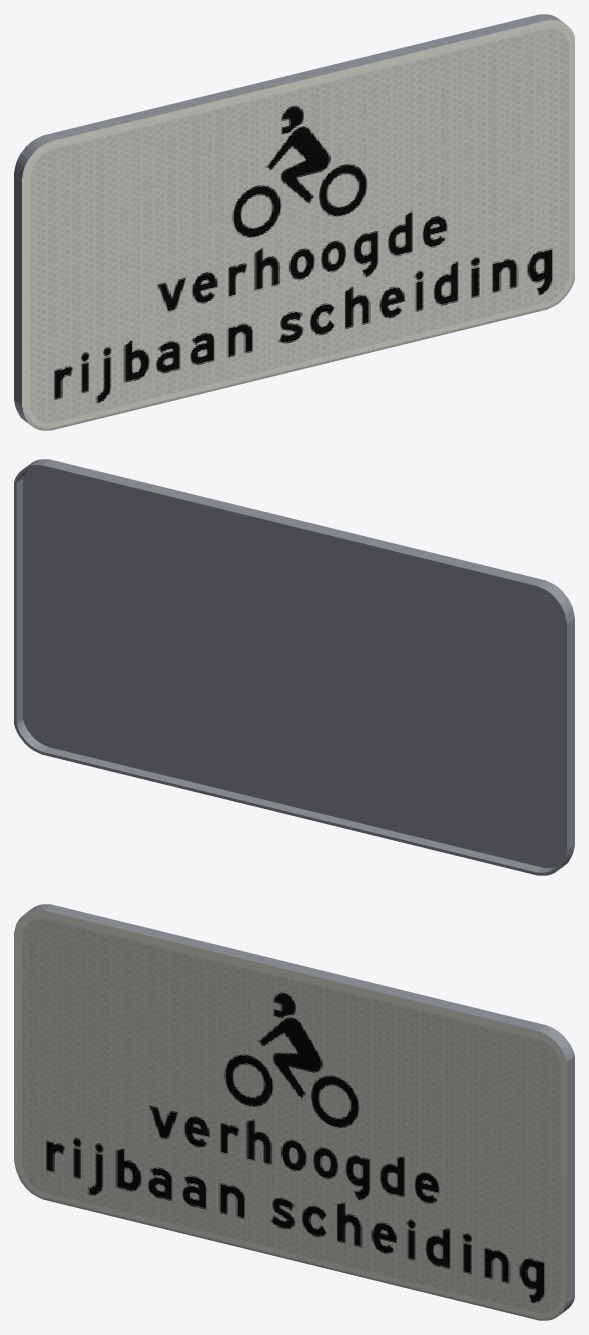
3 renders of one model, top to bottom at view 1: azimuth 30°, elevation 25°; view 2: azimuth 150°, elevation 25°; view 3: azimuth 330°, elevation 25°, orthographic.
Parts seen in each view (by area): view 1: cat_44e162589621736f; view 2: cat_44e162589621736f; view 3: cat_44e162589621736f.
Part boxes in pixels (bbox=[...]): cat_44e162589621736f: bbox=[14, 14, 574, 430]; cat_44e162589621736f: bbox=[14, 459, 574, 875]; cat_44e162589621736f: bbox=[14, 904, 574, 1320].
Size of the model in its own units: 0.6 by 0.015 by 0.3.
2 materials, 1 textured.
